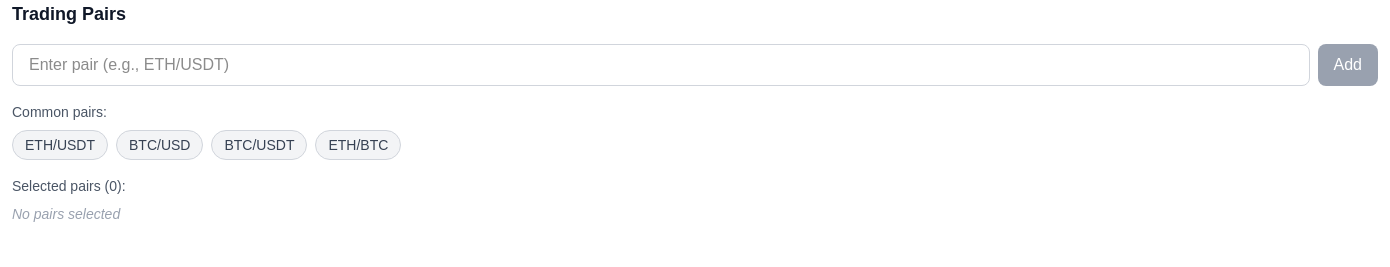
Test: TradingPairSelector › Validation Errors › should clear error when typing
Step 1. Type "INVALID" into the field with placeholder "Enter pair (e.g., ETH/USDT)" → (661, 65), box [12, 44, 1310, 86]
Then press Enter
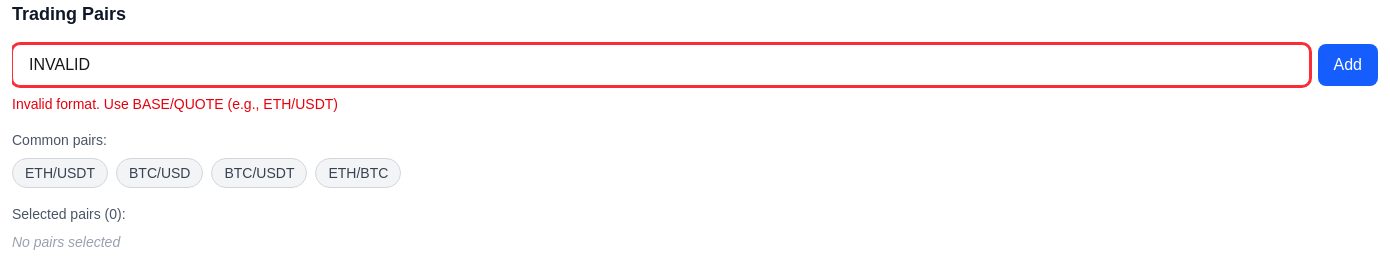
Now the text "Invalid format. Use BASE/QUOTE (e.g., ETH/USDT)" is shown, box [12, 96, 338, 112]
Step 2. Type "A" into the field with placeholder "Enter pair (e.g., ETH/USDT)" → (661, 65), box [12, 44, 1310, 86]
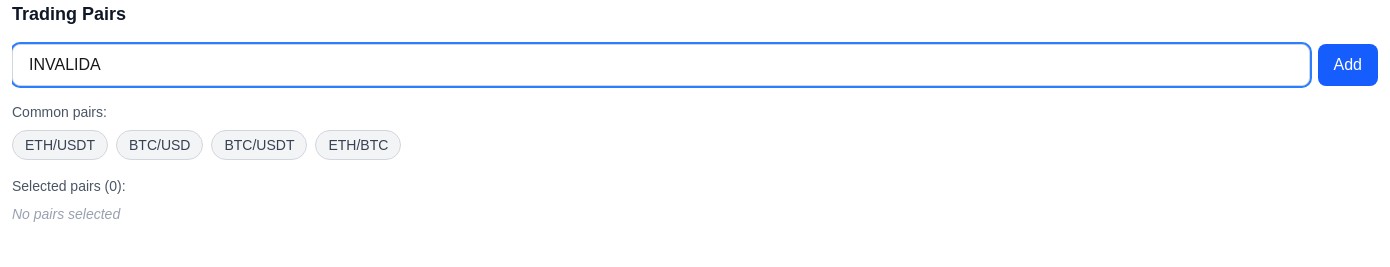
Now the text "Invalid format. Use BASE/QUOTE (e.g., ETH/USDT)" is gone
